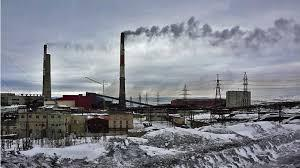smoke: (118, 15, 300, 57), (44, 40, 115, 56)
